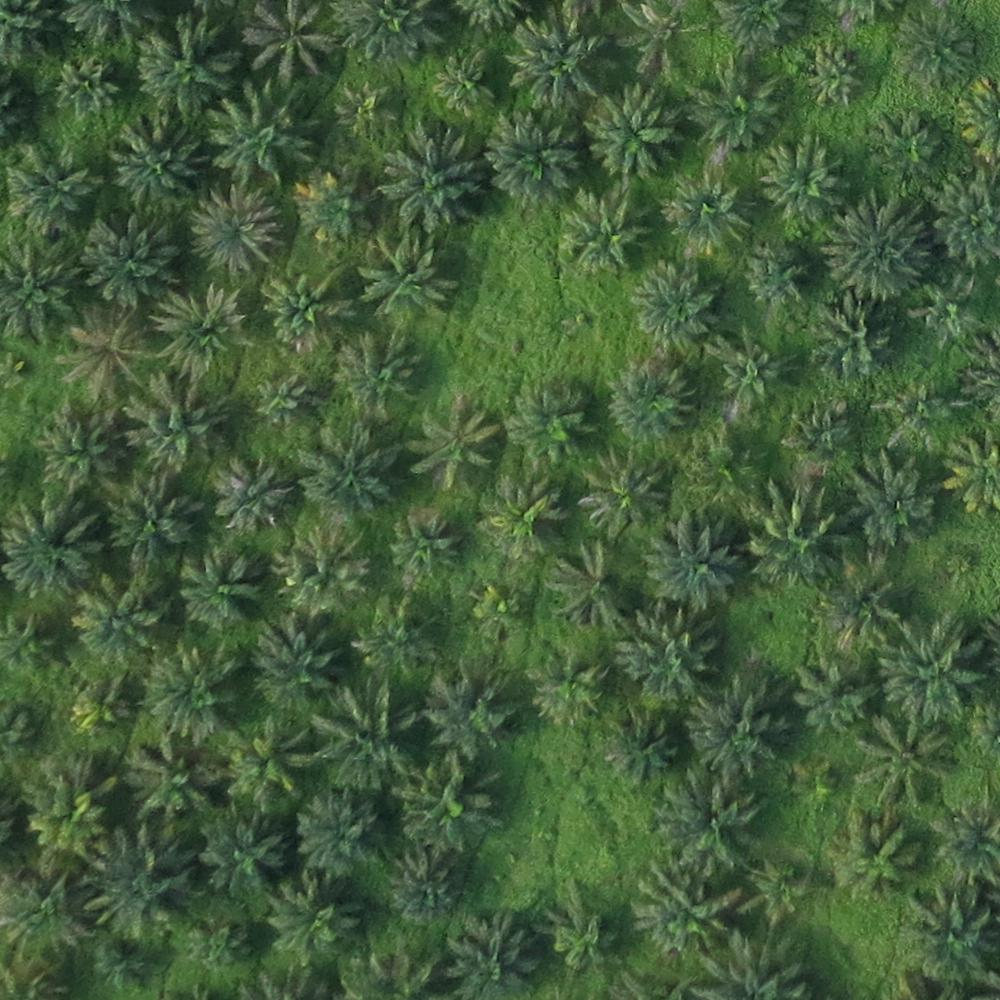Palm: (86, 833, 203, 940), (375, 126, 486, 231), (627, 860, 741, 962), (614, 599, 718, 707), (877, 619, 988, 719), (130, 10, 236, 114), (311, 681, 414, 788), (292, 422, 398, 522), (824, 196, 930, 296), (3, 492, 105, 594), (656, 776, 766, 869), (849, 714, 953, 809), (487, 109, 586, 208), (686, 677, 786, 774), (19, 762, 112, 864), (397, 756, 500, 848), (747, 483, 844, 580), (118, 376, 220, 468), (551, 184, 652, 276), (142, 644, 235, 743), (900, 892, 997, 985), (840, 454, 937, 547), (125, 730, 220, 824), (423, 660, 517, 755), (153, 281, 246, 377), (274, 524, 373, 613), (77, 215, 179, 301), (640, 516, 744, 600), (504, 17, 602, 106), (689, 59, 782, 152), (360, 234, 451, 327), (408, 396, 503, 485), (188, 183, 282, 272), (754, 139, 849, 227), (206, 91, 304, 176), (331, 328, 422, 419), (247, 621, 339, 710), (7, 143, 94, 236), (588, 91, 684, 175), (266, 875, 358, 962), (502, 377, 594, 464), (603, 354, 696, 440), (261, 267, 357, 350), (173, 544, 264, 631), (551, 545, 640, 633), (31, 404, 124, 488), (106, 473, 195, 560), (892, 4, 981, 91), (221, 721, 311, 807), (103, 125, 198, 206), (831, 814, 921, 899), (660, 174, 752, 257), (632, 266, 725, 347), (3, 247, 82, 342), (294, 792, 383, 876), (474, 480, 566, 561), (805, 292, 892, 375), (524, 650, 613, 731), (448, 915, 539, 994), (817, 561, 903, 644), (60, 315, 149, 394), (78, 577, 161, 661), (582, 456, 668, 533), (245, 7, 334, 81), (356, 592, 436, 674), (204, 815, 283, 898), (790, 655, 878, 729), (294, 166, 377, 243), (932, 175, 997, 268), (931, 793, 1000, 879), (870, 108, 947, 185), (602, 709, 677, 788), (383, 851, 464, 923), (212, 460, 295, 529), (717, 336, 790, 411), (390, 507, 461, 580), (550, 907, 621, 979), (780, 406, 857, 471), (49, 52, 121, 118), (434, 49, 502, 118), (800, 39, 864, 110), (740, 245, 810, 307)
